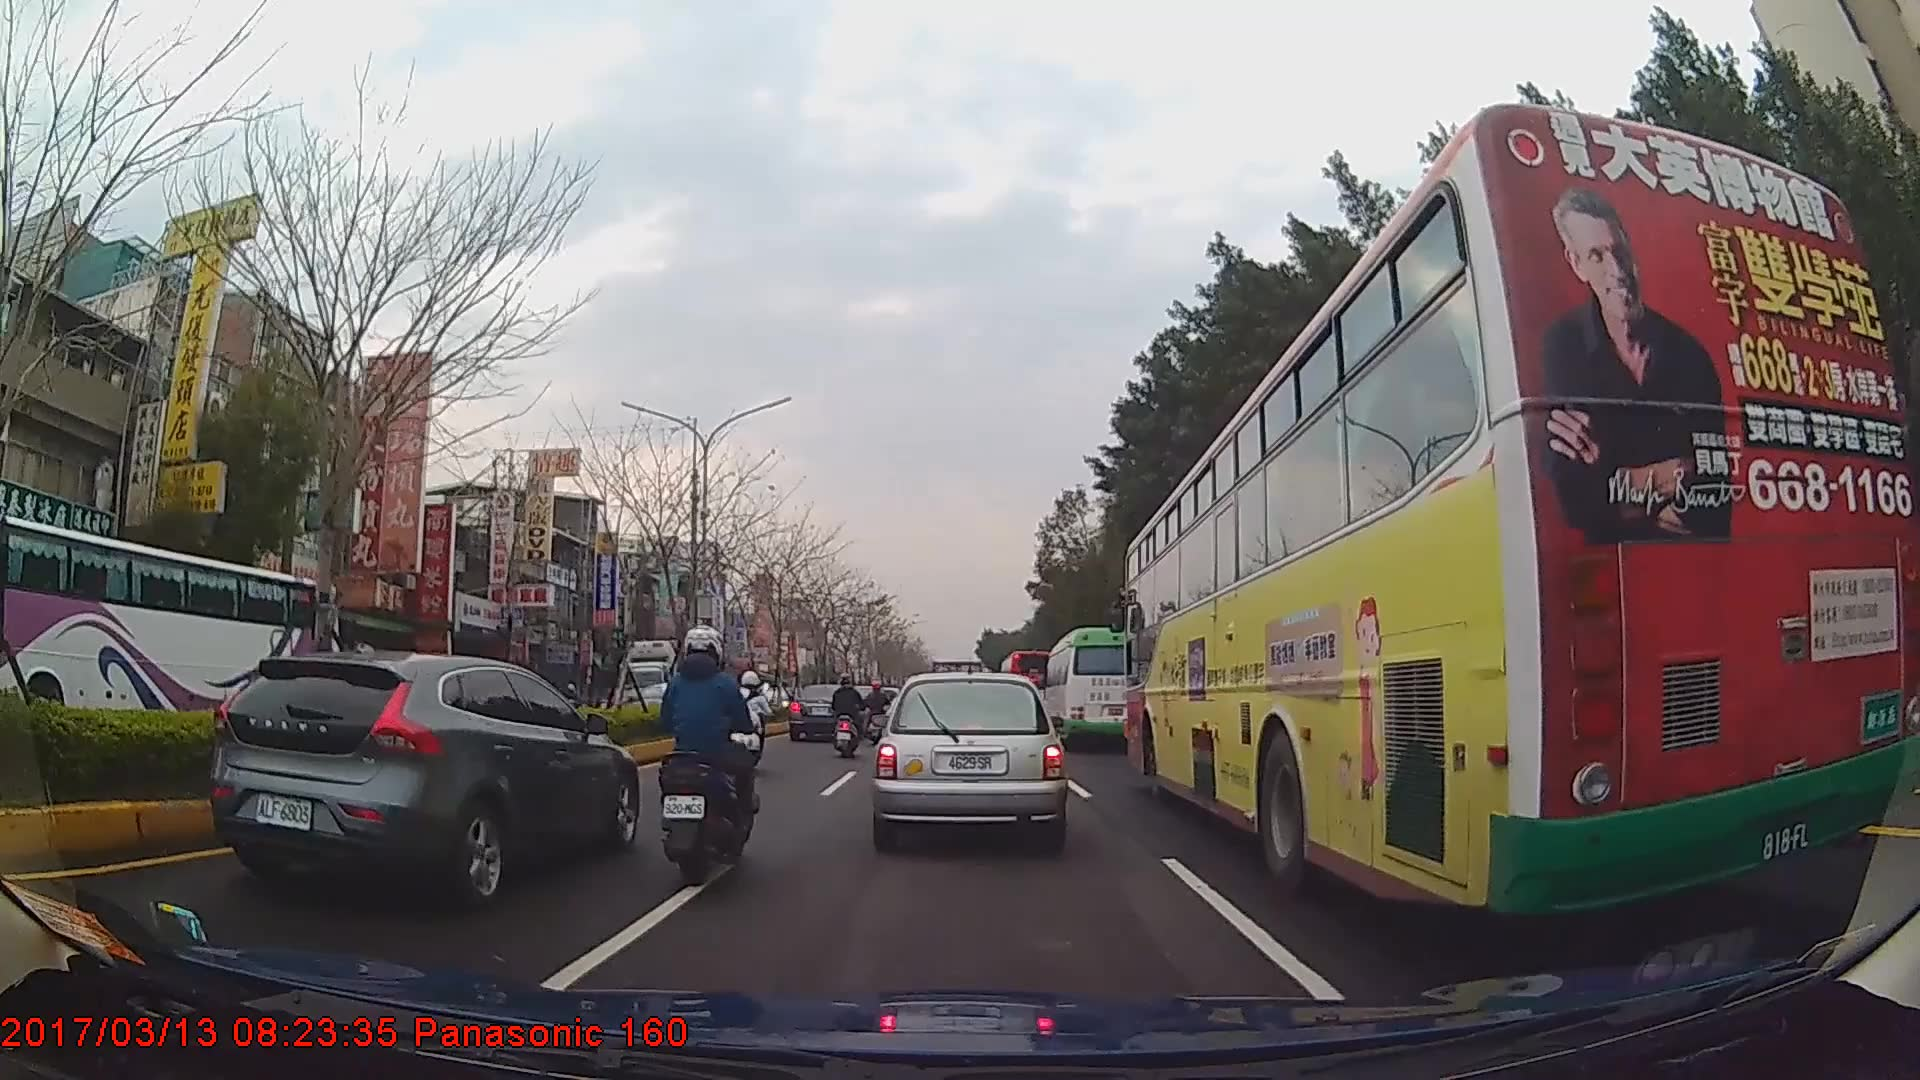rider: (659, 625, 758, 883), (722, 669, 771, 780), (832, 672, 869, 753), (862, 679, 890, 741)
vehicle: (1125, 98, 1920, 926), (209, 648, 641, 909), (0, 514, 339, 763), (874, 669, 1069, 848), (1044, 626, 1158, 751), (789, 681, 868, 741), (998, 646, 1056, 722)
